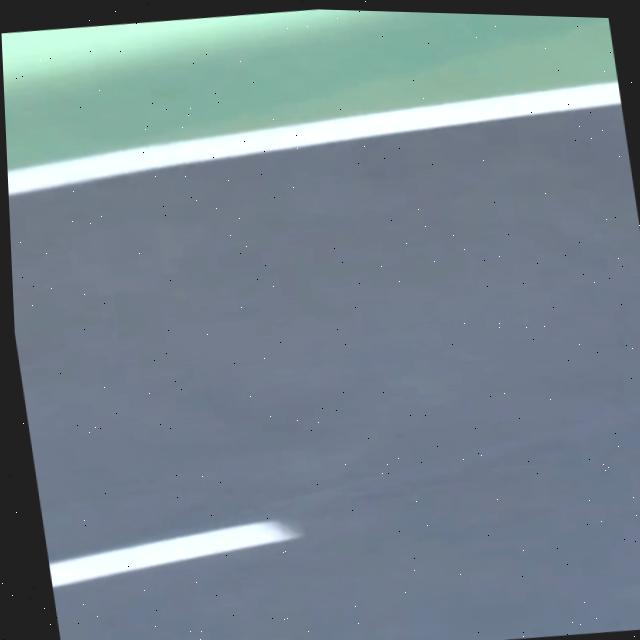center: (49, 520, 300, 587)
right: (8, 81, 621, 195)
